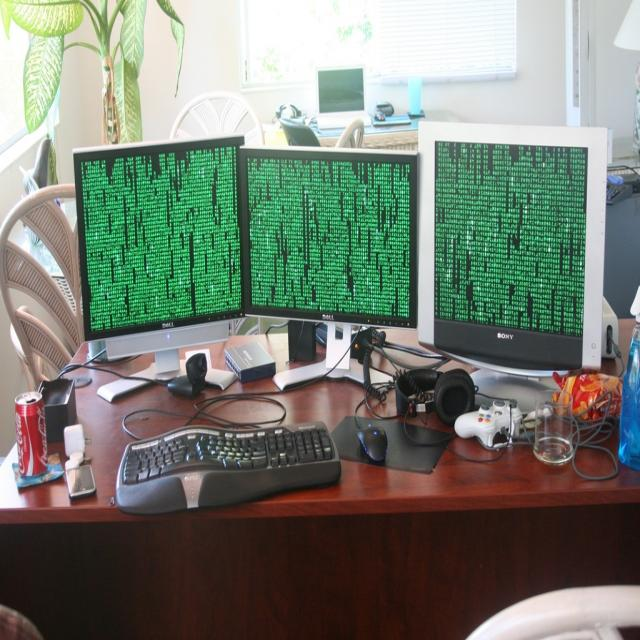chair: (243, 140, 414, 329), (1, 182, 82, 392), (467, 585, 639, 636), (168, 91, 266, 145)
desk: (0, 326, 639, 639)
keyboard: (115, 422, 342, 512)
laptop: (315, 65, 367, 131)
mouse: (356, 424, 388, 461)
tv: (418, 121, 610, 374), (74, 134, 245, 355), (241, 146, 418, 327)
